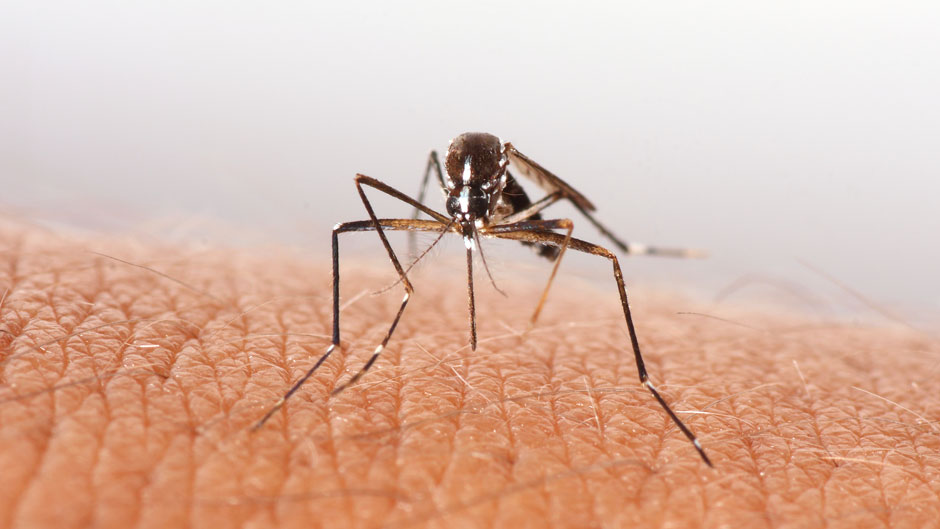dengue_mosquito: (318, 132, 651, 384)
